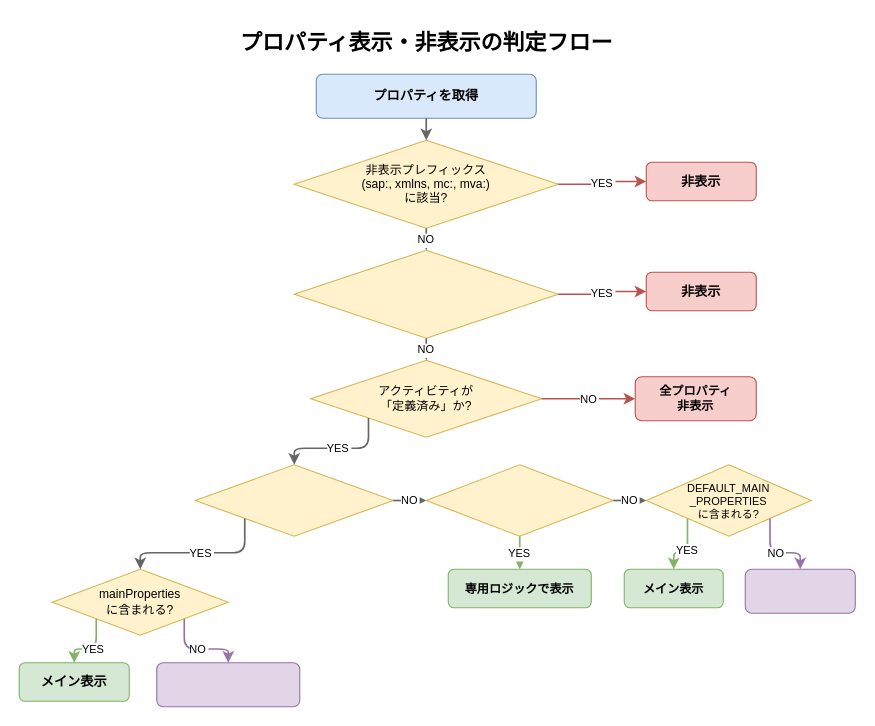
The diagram is 875 pixels wide and 726 high, and some of its shapes have lost their labels. Here are the shapes that lost their labels. From the top down, the centre of each, then its label:
At (425,293): "個別除外リスト (DisplayName, Body 等) に該当?".
At (293,500): "ACTIVITY_CONFIGS に登録あり?".
At (519,500): "専用レンダリング (Assign, LogMessage)?".
At (799,590): "サブパネル (グループなし)".
At (228,684): "サブパネル (グループ分け表示)".
